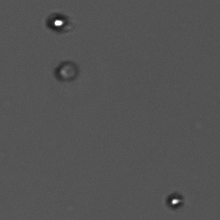Living Cell: (55, 58, 80, 82), (46, 13, 70, 32), (164, 191, 186, 210)
